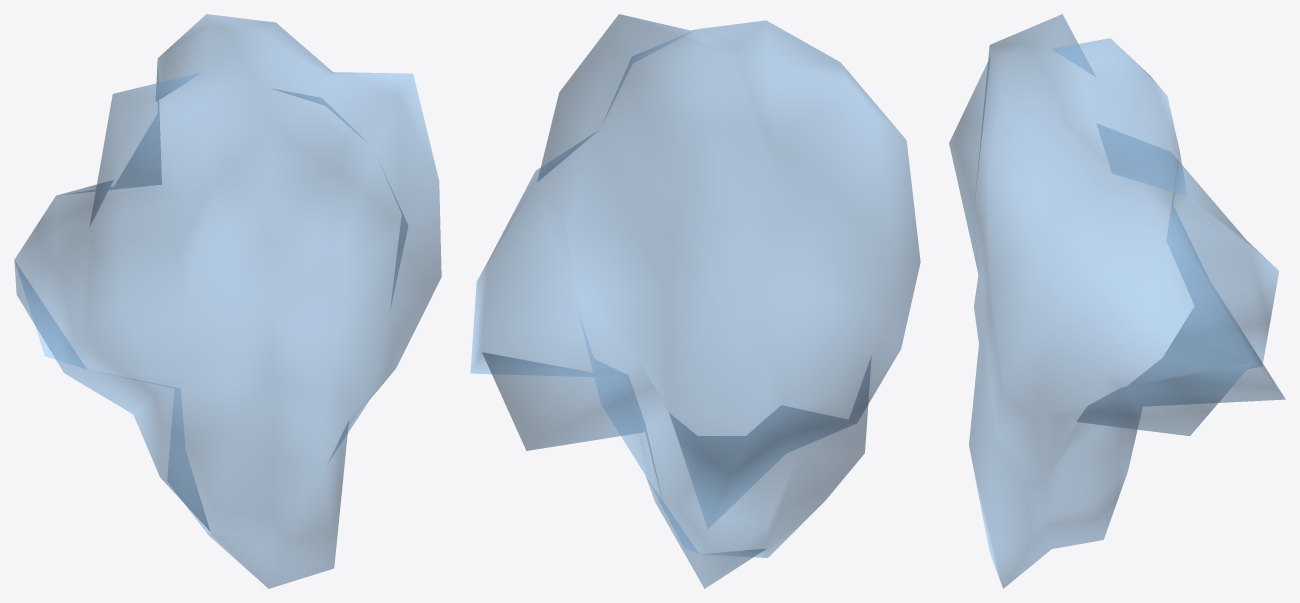
The model's file is mwarlordtrain_shield.gltf.
The picture shows the model from 3 angles, left to right: view 1: azimuth 30°, elevation 25°; view 2: azimuth 150°, elevation 25°; view 3: azimuth 270°, elevation 25°; orthographic projection. The views are drawn at different scales.
Visible parts, largest first — view 1: mwarlordtrain.shield; view 2: mwarlordtrain.shield; view 3: mwarlordtrain.shield.
Part boxes in pixels (<box>): mwarlordtrain.shield: <box>14,14,441,588</box>; mwarlordtrain.shield: <box>470,14,920,588</box>; mwarlordtrain.shield: <box>949,14,1285,588</box>.
Bounding box in the file's own units: 21.5 × 29.65 × 17.53.
